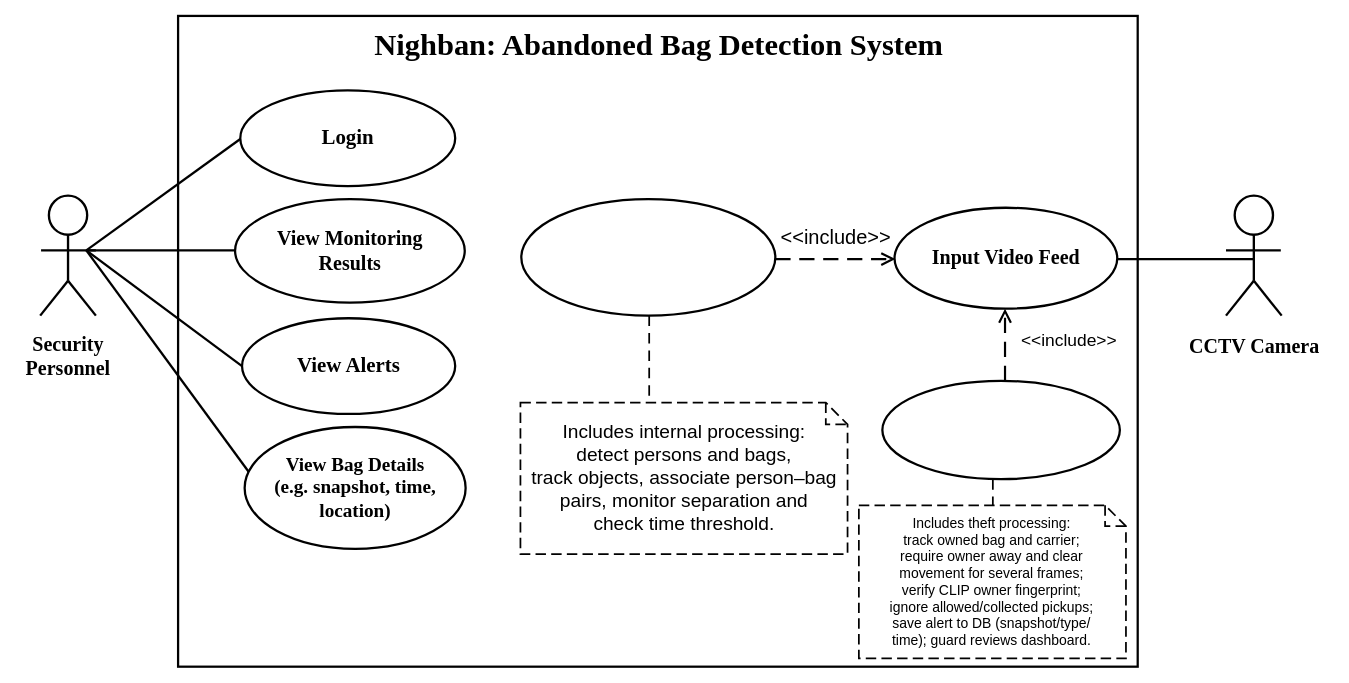
Image size: 1349x683. Some labels were removed from this diagram. The box of each missing label's shape, as (x1, y1, x2, y2) in pixels:
Monitor Abandoned Bags: (520, 197, 776, 316)
Monitor Possible Theft: (881, 379, 1121, 480)
